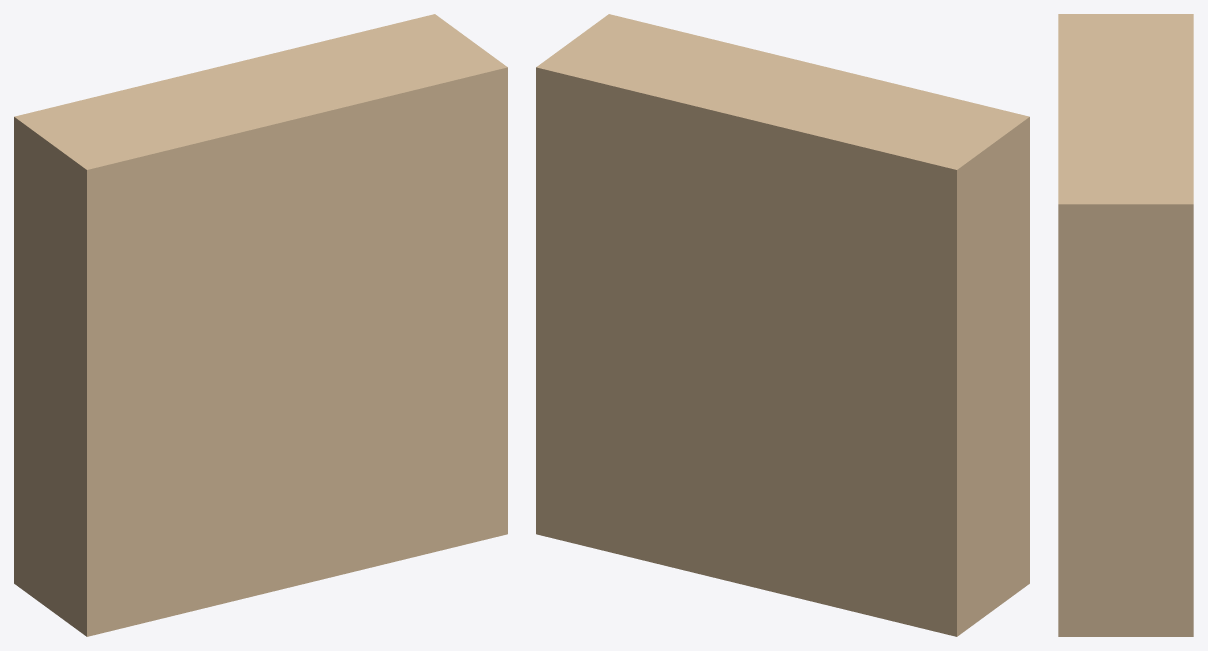
Rendered from fixed-s-bath-timber_mirror_cabinet-77c26f51d5.glb.
3 renders of one model, left to right at view 1: azimuth 30°, elevation 25°; view 2: azimuth 150°, elevation 25°; view 3: azimuth 270°, elevation 25°, orthographic. The views are drawn at different scales.
Visible parts, largest first — view 1: frame; view 2: frame; view 3: frame.
Part boxes in pixels (x1=…): frame: x1=14, y1=14, x2=507, y2=636; frame: x1=536, y1=14, x2=1029, y2=636; frame: x1=1058, y1=14, x2=1193, y2=636.
Size of the model in its own units: 0.5 by 0.53 by 0.15.
